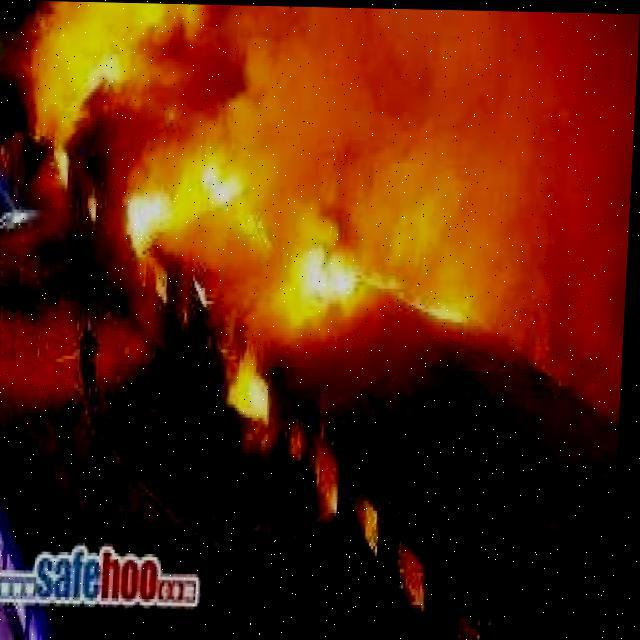Fire: (19, 4, 482, 426)
